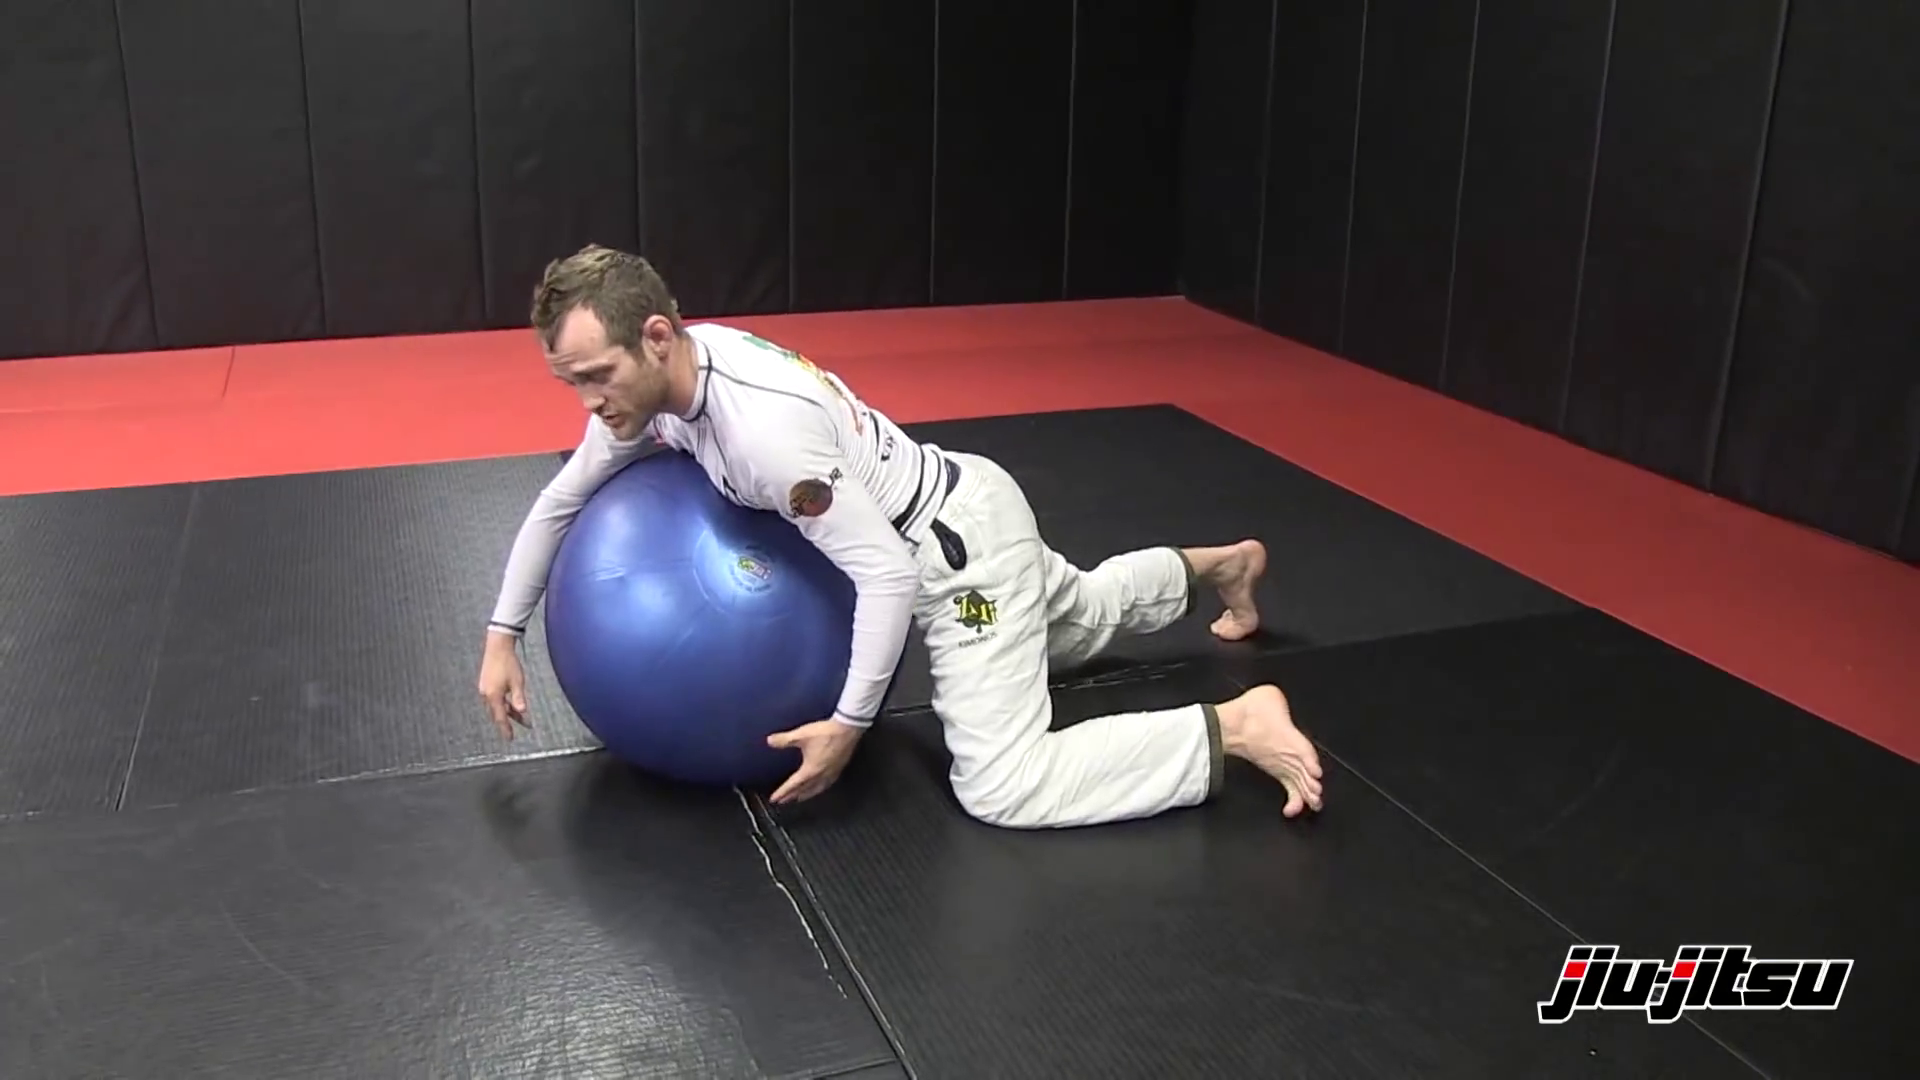yogaball: (538, 446, 897, 795)
